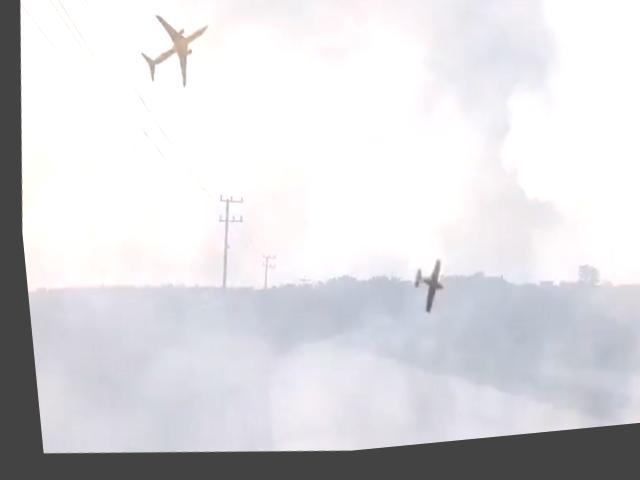plane: (134, 10, 211, 96), (403, 266, 442, 324)
